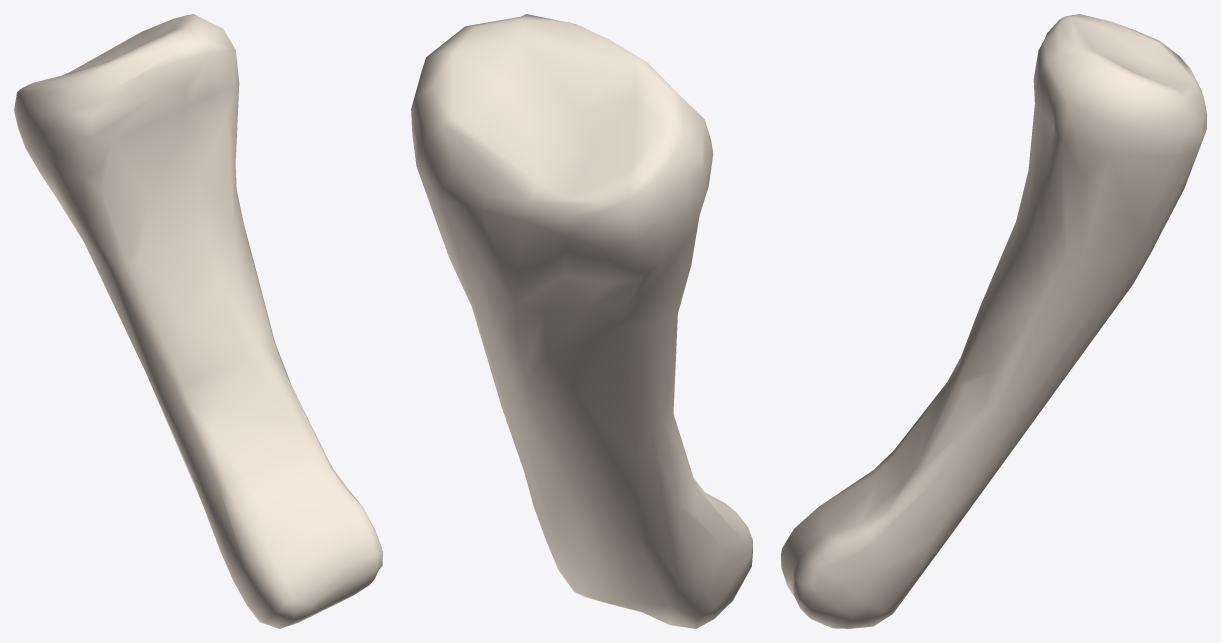
Rendered from right_digit_5_proximal.glb.
3 views of the same model, side by side, from view 1: azimuth 30°, elevation 25°; view 2: azimuth 150°, elevation 25°; view 3: azimuth 270°, elevation 25° (orthographic). The views are drawn at different scales.
Visible parts, largest first — view 1: Proximal phalanx of 5th finger.r; view 2: Proximal phalanx of 5th finger.r; view 3: Proximal phalanx of 5th finger.r.
Boxes of the visible parts, x1,y1,x2,y2 form: Proximal phalanx of 5th finger.r: (14, 14, 382, 628); Proximal phalanx of 5th finger.r: (411, 14, 752, 628); Proximal phalanx of 5th finger.r: (781, 14, 1206, 628).
Size of the model in its own units: 0.0107 by 0.0244 by 0.0165.
